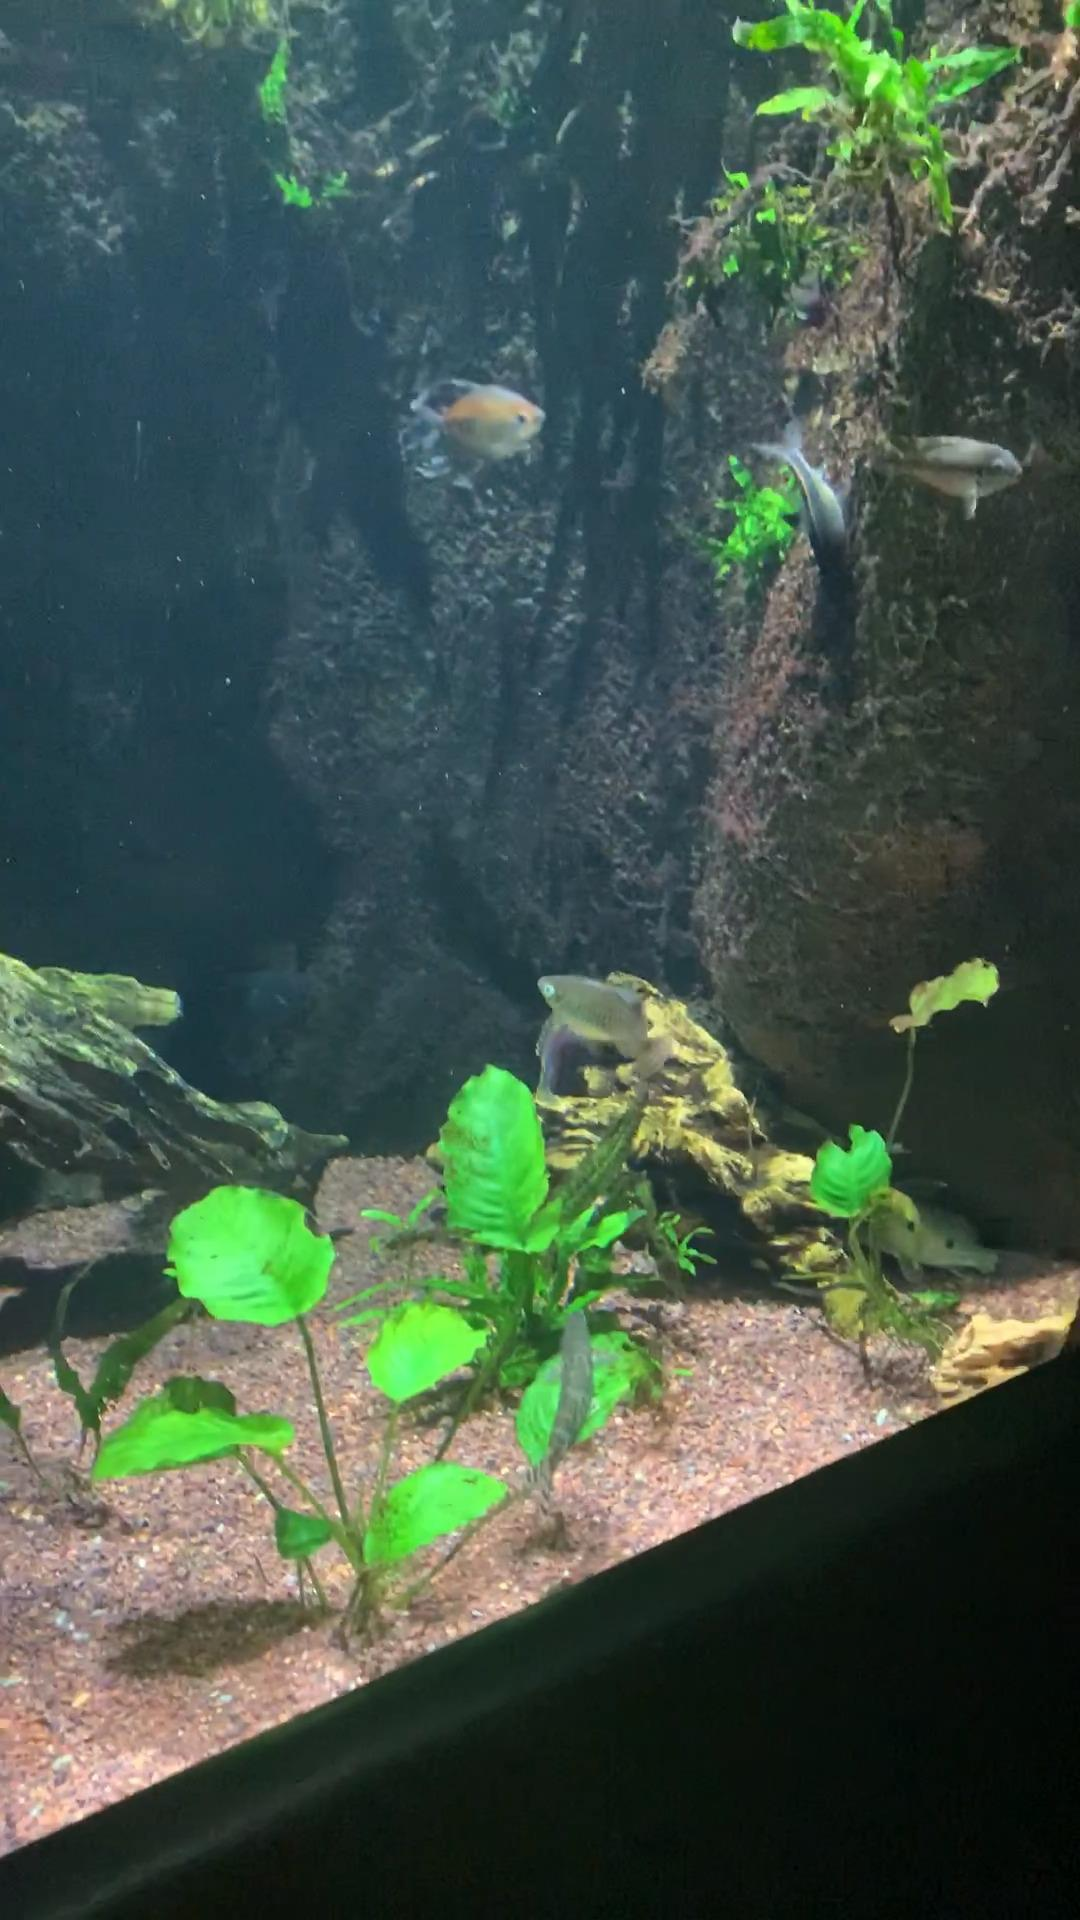fish: (752, 421, 862, 584), (406, 375, 545, 487), (872, 433, 1025, 517), (541, 977, 666, 1069)
